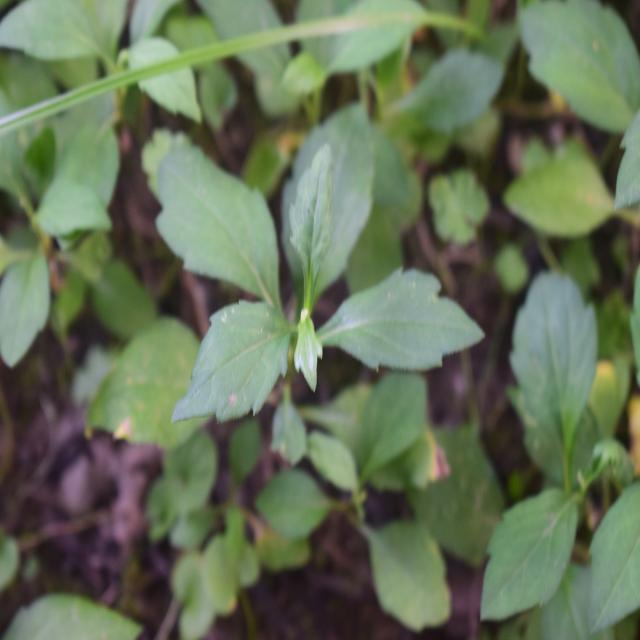Indian aster: (165, 150, 471, 450)
